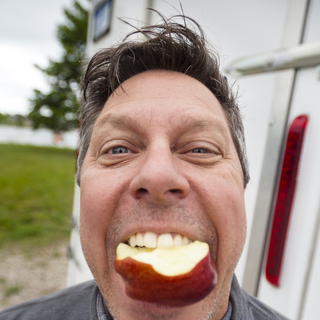eye: (176, 141, 225, 164), (96, 140, 142, 164)
